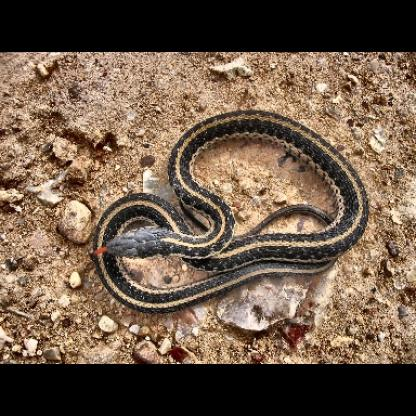Snake: (89, 108, 372, 310)
